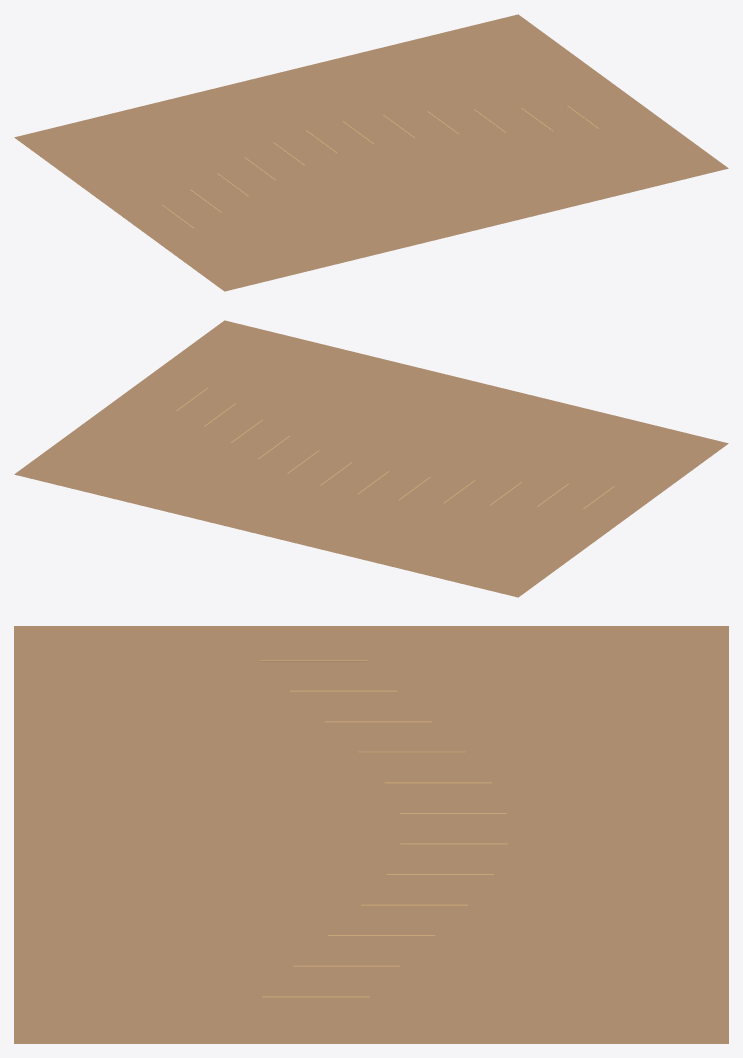
Rendered from 288_L120_L23_LayerReference.glb.
3 renders of one model, top to bottom at view 1: azimuth 30°, elevation 25°; view 2: azimuth 150°, elevation 25°; view 3: azimuth 270°, elevation 25°, orthographic. The views are drawn at different scales.
Visible parts, largest first — view 1: 0000__PSMAT__copper_dark; view 2: 0000__PSMAT__copper_dark; view 3: 0000__PSMAT__copper_dark.
Part boxes in pixels (x1,y1,x2,y2): 0000__PSMAT__copper_dark: (14,14,728,291); 0000__PSMAT__copper_dark: (14,320,728,597); 0000__PSMAT__copper_dark: (14,626,728,1043).
Bounding box in the file's own units: 0.506 × 8.2e-05 × 0.366.
